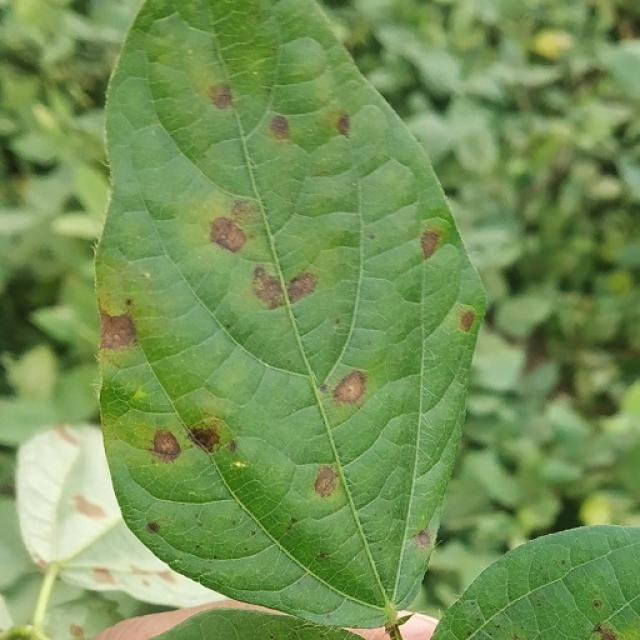Anthracnose: (266, 103, 348, 151), (251, 264, 316, 310), (202, 217, 264, 257), (97, 309, 139, 352), (209, 215, 248, 253), (331, 368, 368, 407), (151, 428, 183, 462), (188, 425, 221, 454), (312, 464, 340, 498), (73, 496, 107, 519), (209, 82, 234, 109), (420, 229, 440, 259), (231, 198, 258, 220), (270, 114, 291, 139), (591, 621, 617, 639), (413, 529, 434, 550), (92, 567, 116, 584), (459, 310, 475, 332), (336, 113, 351, 136), (252, 265, 267, 282), (69, 623, 84, 638), (146, 521, 159, 534), (227, 439, 238, 453), (591, 599, 602, 609), (319, 383, 329, 393), (317, 551, 328, 559), (125, 298, 133, 306), (560, 559, 567, 565)
Blackgram: (95, 0, 485, 624)
